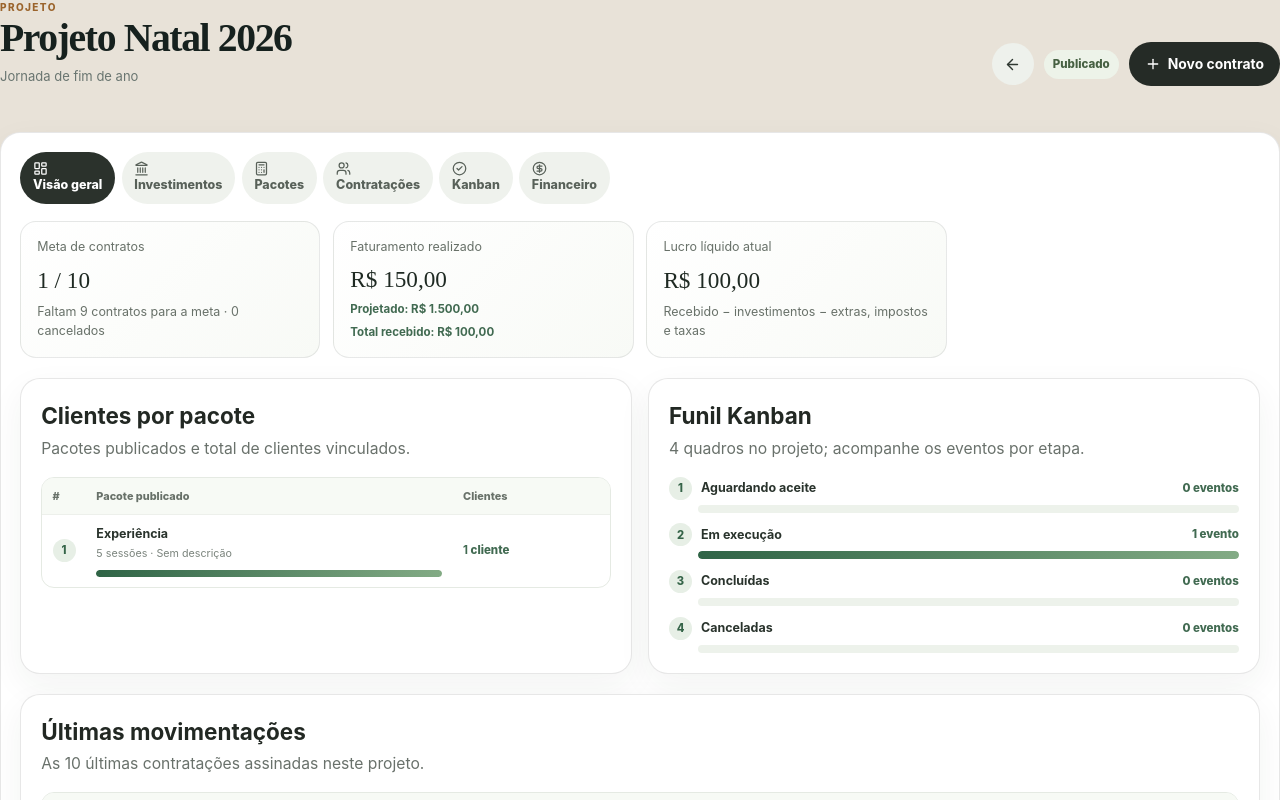
it: projects navigation › shows the latest project session status beside Kanban
Click the button "Contratações". click: click(378, 178)
box: [323,152,433,204]
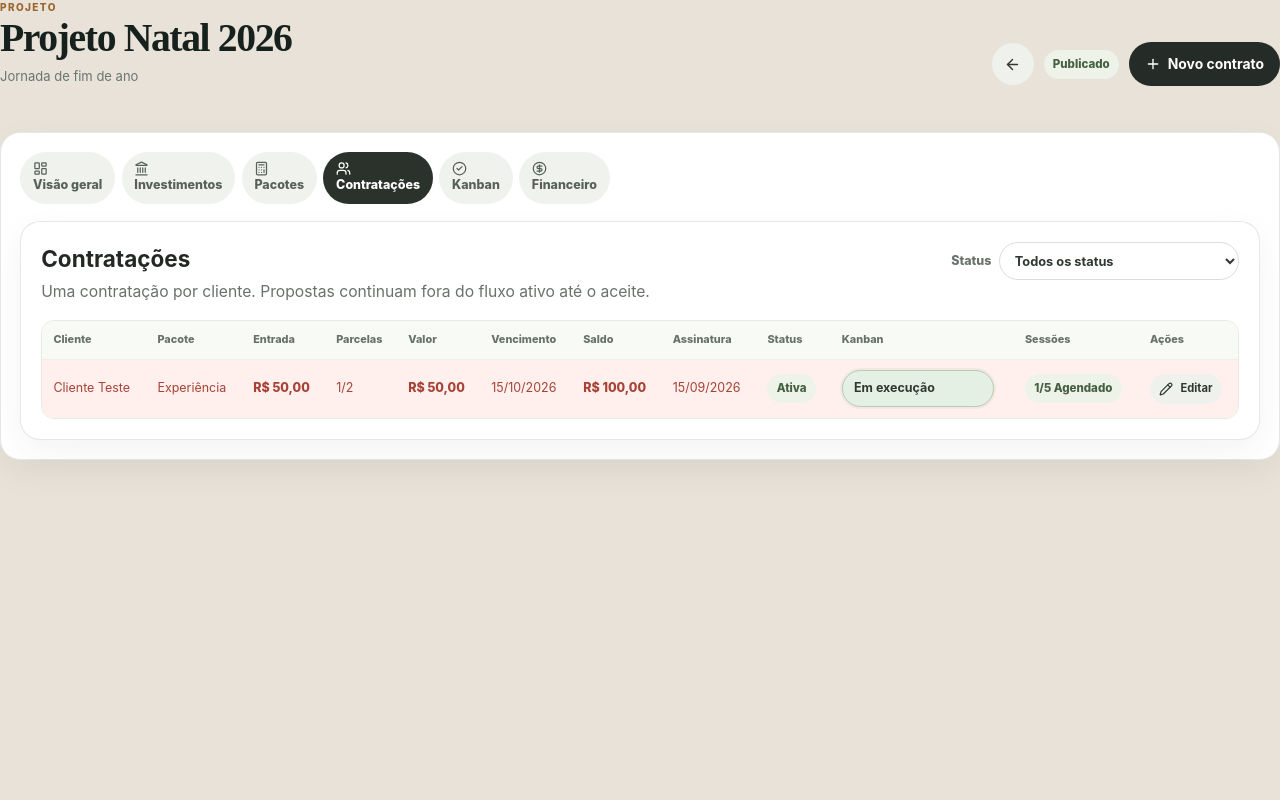
Check: the column heading "Sessões" is shown, box [1014,320,1139,360]
Check: the row "Cliente Teste" shows "1/5 Agendado", box [1034,381,1112,395]
